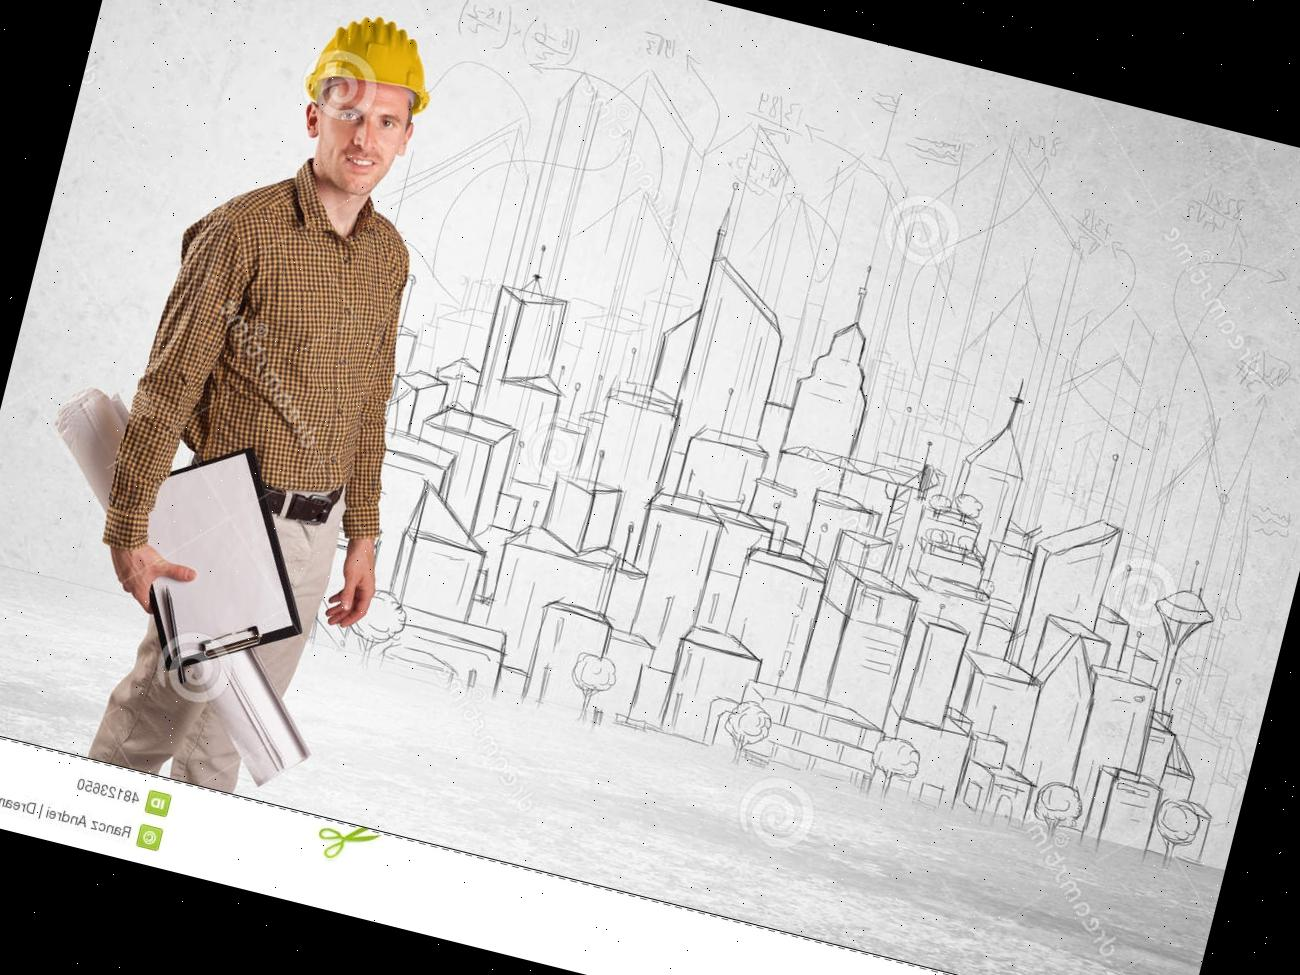helmet: (303, 0, 446, 117)
no_wear: (140, 169, 429, 509)
